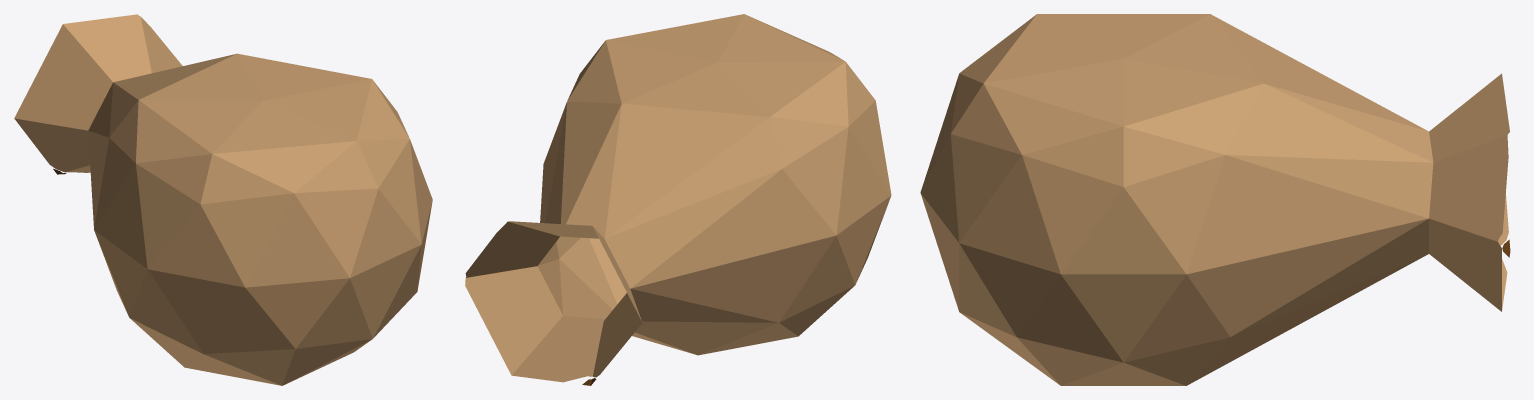
The model's file is Bag.fbx.
3 views of the same model, side by side, from view 1: azimuth 30°, elevation 25°; view 2: azimuth 150°, elevation 25°; view 3: azimuth 270°, elevation 25° (orthographic). The views are drawn at different scales.
Parts seen in each view (by area): view 1: Icosphere; view 2: Icosphere; view 3: Icosphere.
Part boxes in pixels (x1=…): Icosphere: x1=14, y1=14, x2=432, y2=385; Icosphere: x1=465, y1=14, x2=891, y2=385; Icosphere: x1=920, y1=14, x2=1510, y2=385.
Size of the model in its own units: 341 by 309 by 528.
